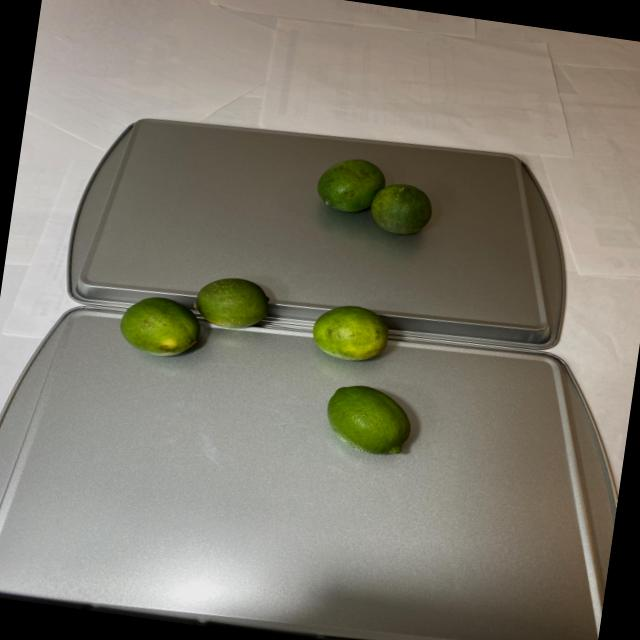lemon: (109, 264, 432, 466), (301, 153, 447, 245)
